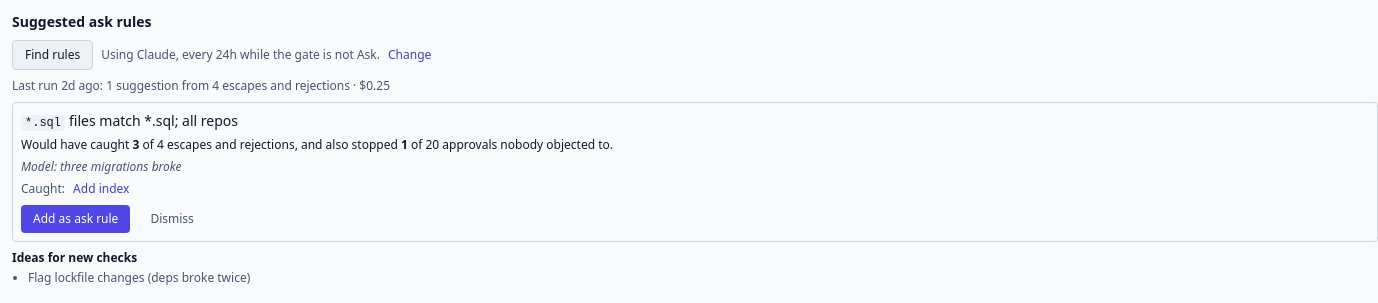
Test case: GateRuleProposals › shows proposals with their replay counts and accepts one
The width and height of the screenshot is (1378, 303).
Check: the text "Model: three migrations broke" is shown, box [21,158,182,175]
Check: the list item "Flag lockfile changes (deps broke twice)" is shown, box [28,269,250,286]
Click the button with aria-label "Add rule files match" at (76, 219), box [21,205,130,233]
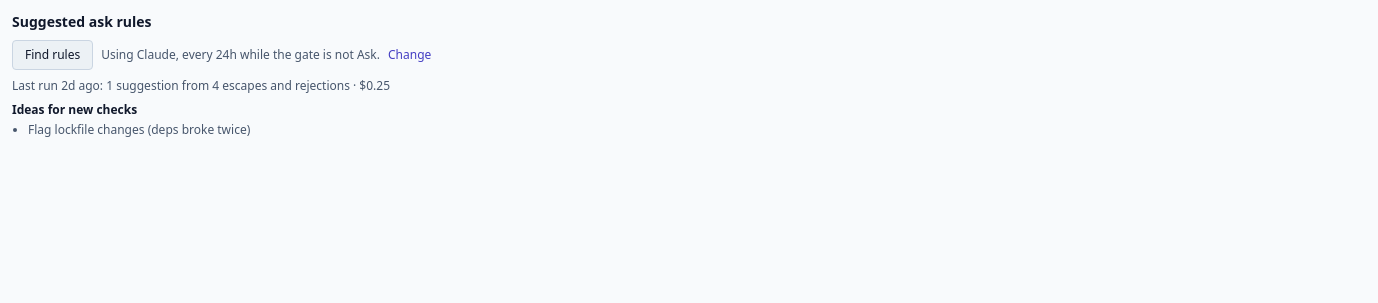
Check: the text "three migrations broke" is gone
